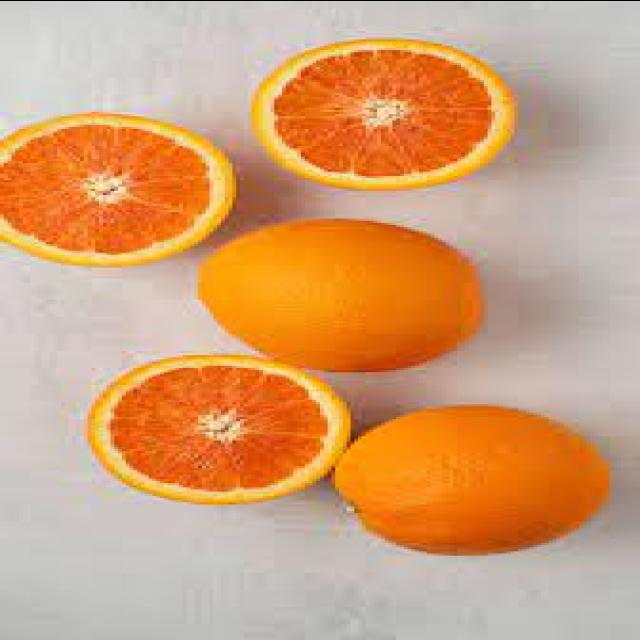orange: (322, 387, 604, 568)
